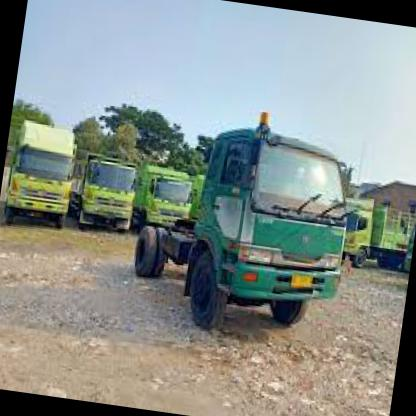truck: (178, 117, 362, 352)
